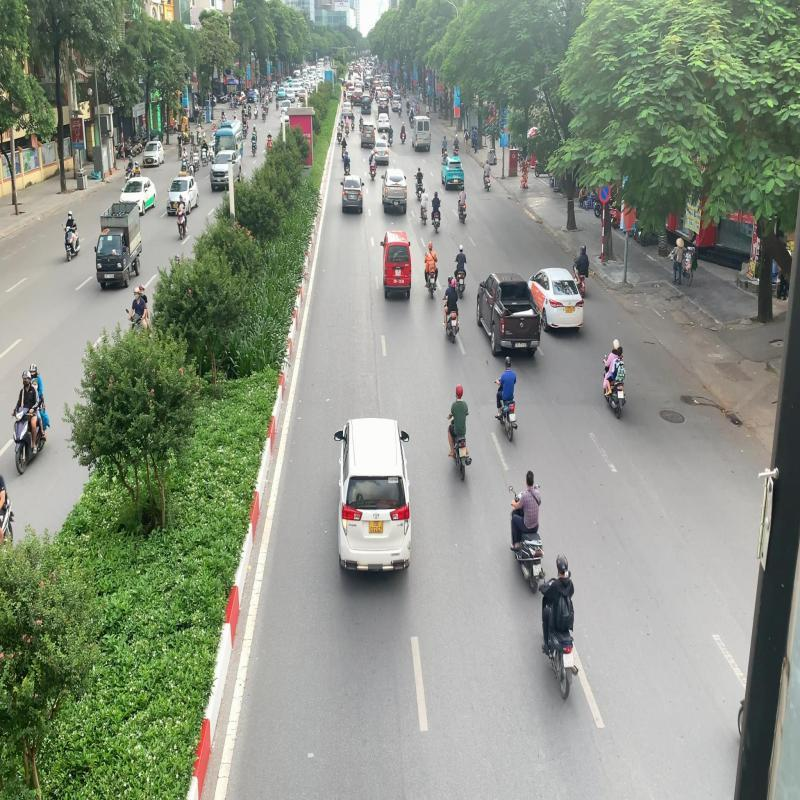helmet: (556, 553, 568, 576), (456, 384, 464, 398), (612, 338, 620, 351)
licenseplate: (563, 653, 574, 668), (533, 563, 542, 577), (458, 446, 468, 457), (617, 391, 624, 399)
motorcyclist: (539, 553, 581, 700), (508, 468, 544, 593), (446, 384, 472, 484), (602, 338, 626, 420)
nohelmet: (526, 470, 534, 488), (617, 346, 624, 360)
